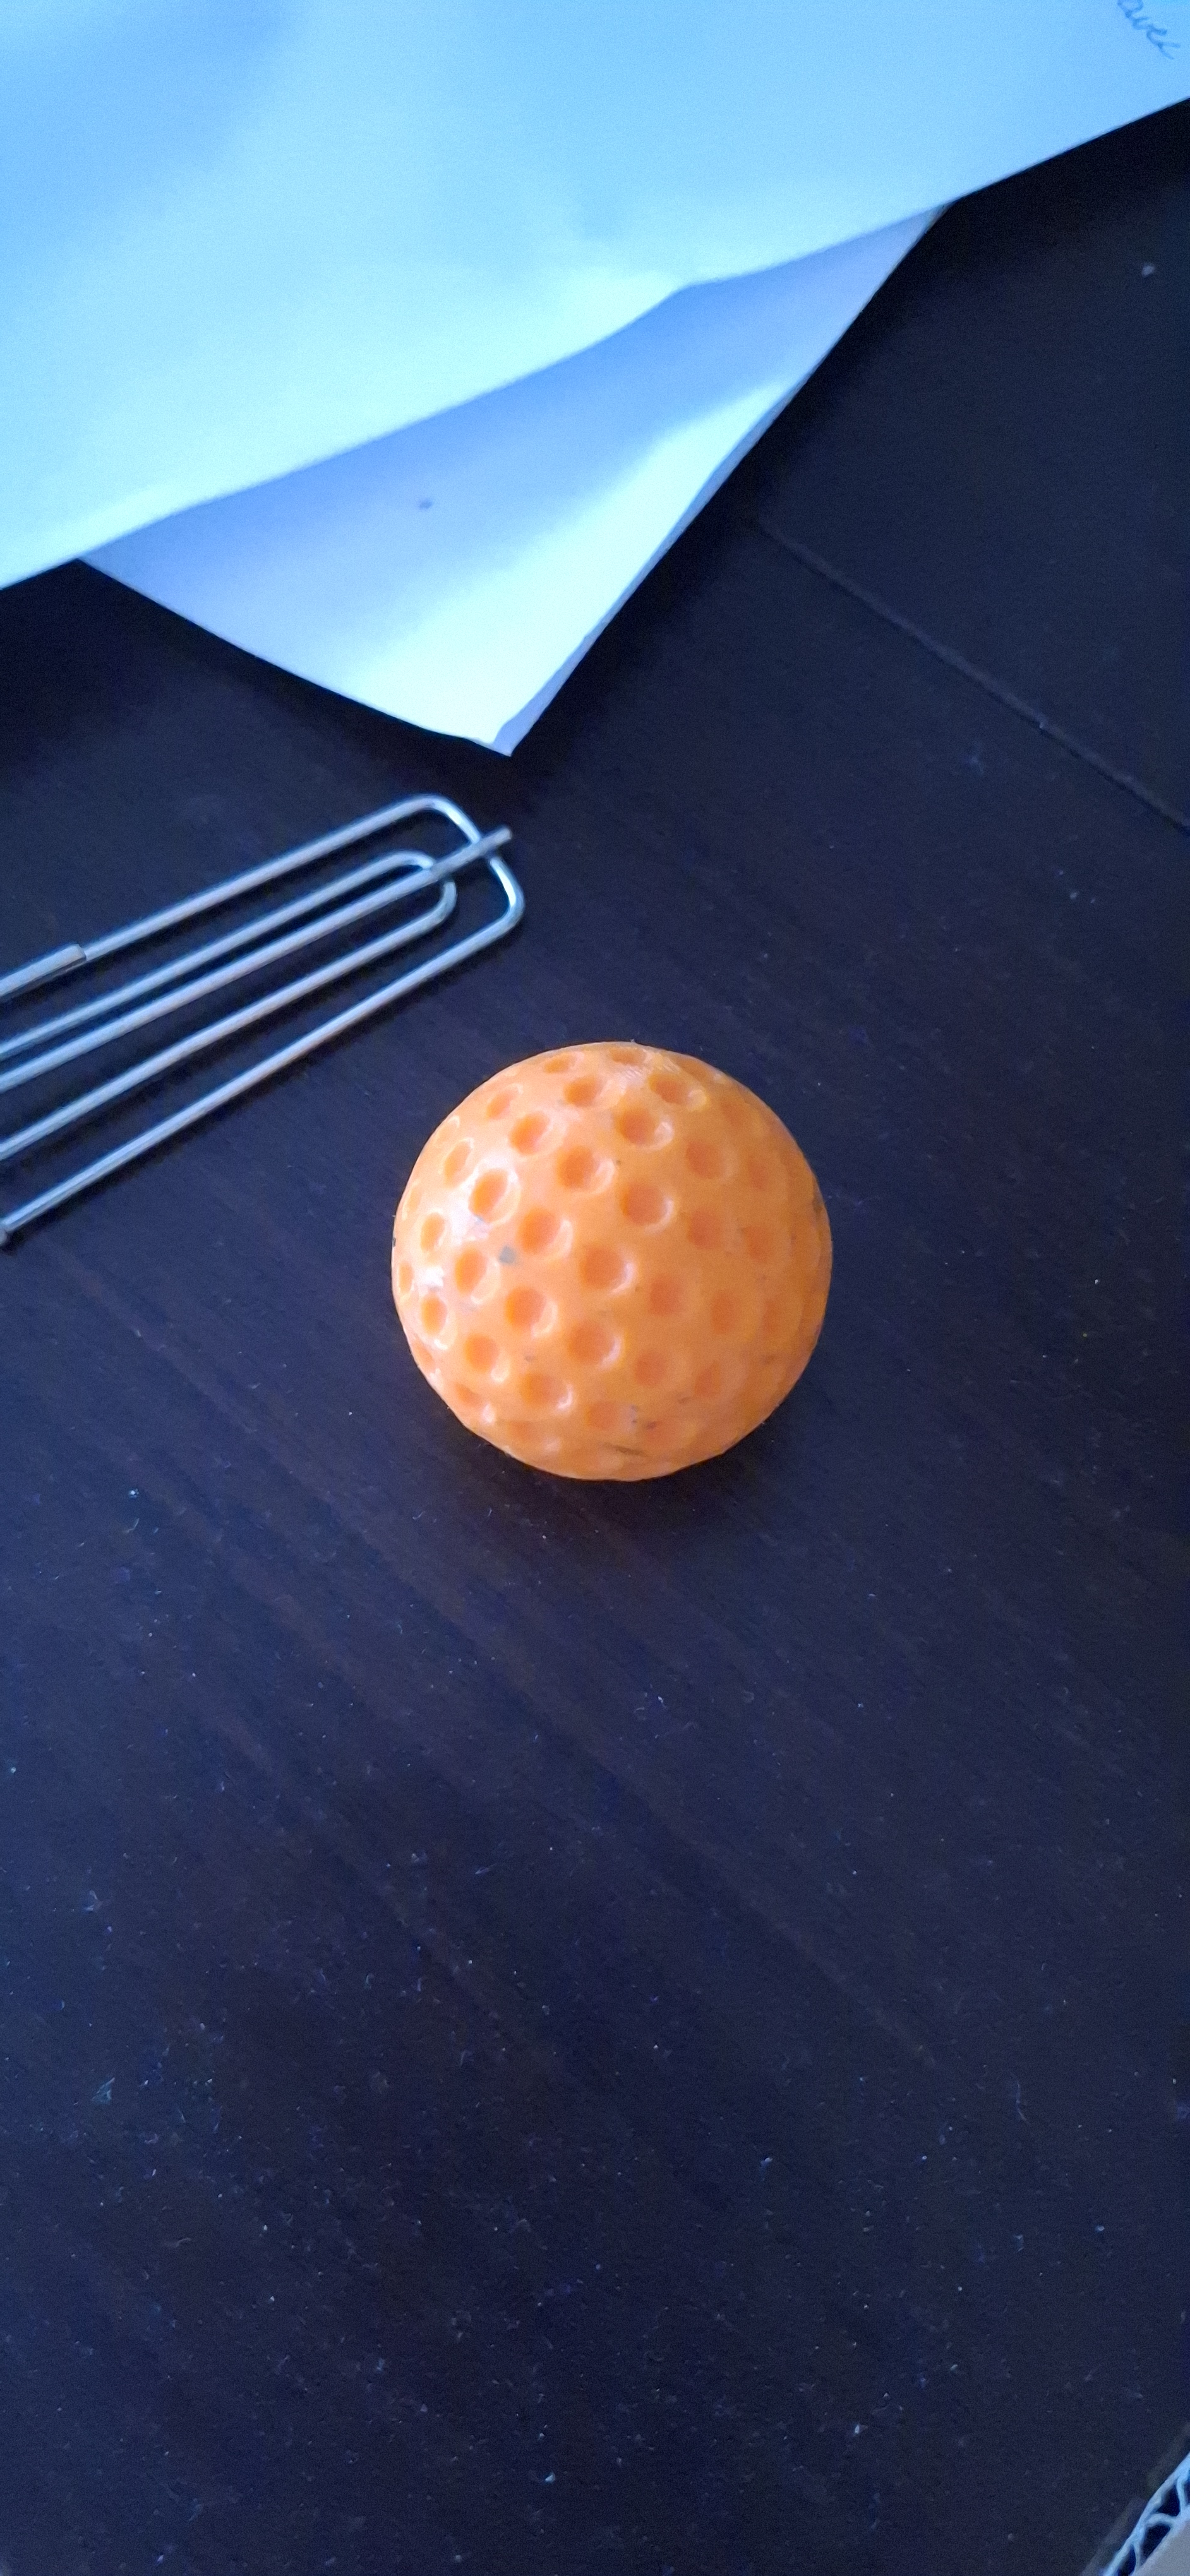ball: (482, 772, 682, 1722)
